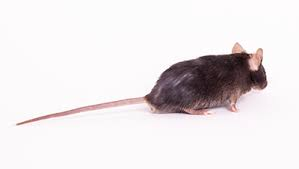mice: (15, 39, 267, 127)
